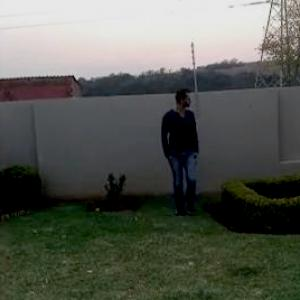follow: (158, 83, 200, 224)
